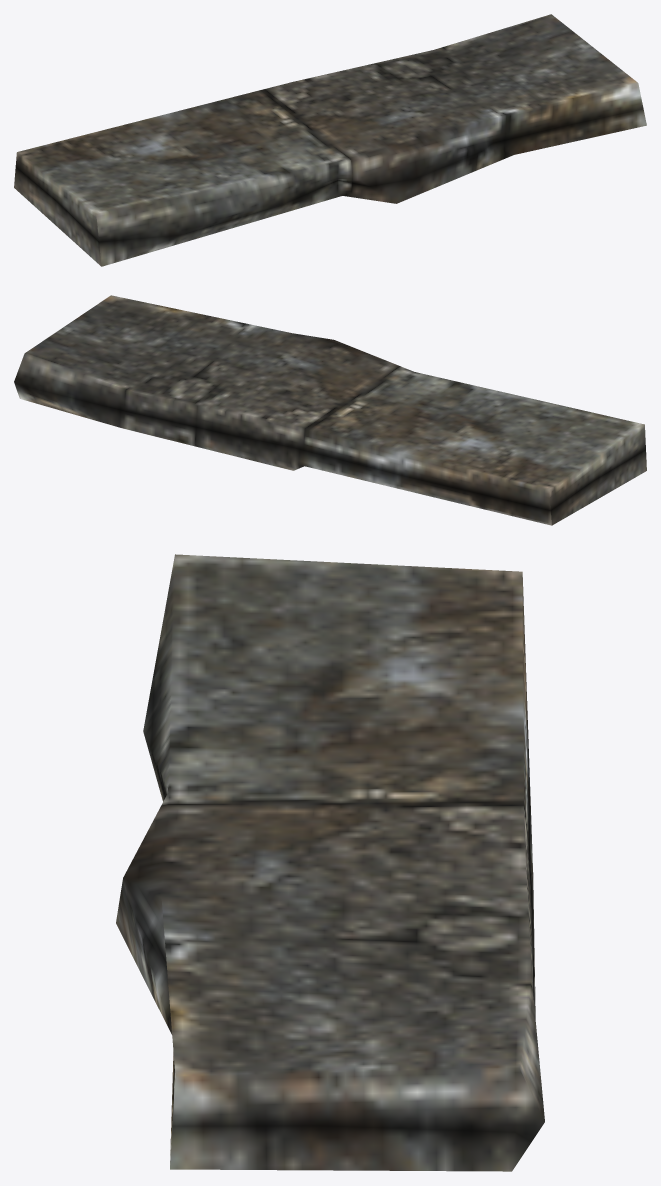
File: Stair1_LOD1.fbx
3 views of the same model, one above another, from view 1: azimuth 30°, elevation 25°; view 2: azimuth 150°, elevation 25°; view 3: azimuth 270°, elevation 25° (orthographic). The views are drawn at different scales.
Parts seen in each view (by area): view 1: polySurface57; view 2: polySurface57; view 3: polySurface57.
Part boxes in pixels (x1,y1,x2,y2): polySurface57: (14,14,646,266); polySurface57: (14,295,646,525); polySurface57: (116,554,544,1171).
Size of the model in its own units: 8.79 by 0.8257 by 3.02.
